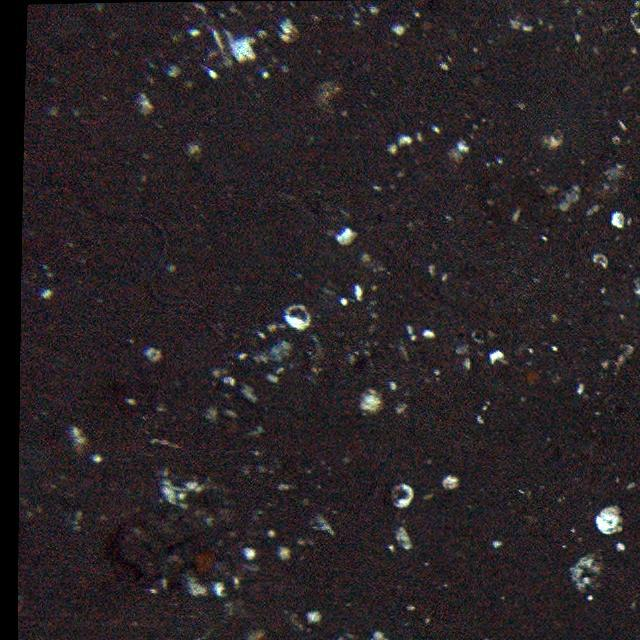eel: (79, 209, 202, 312)
